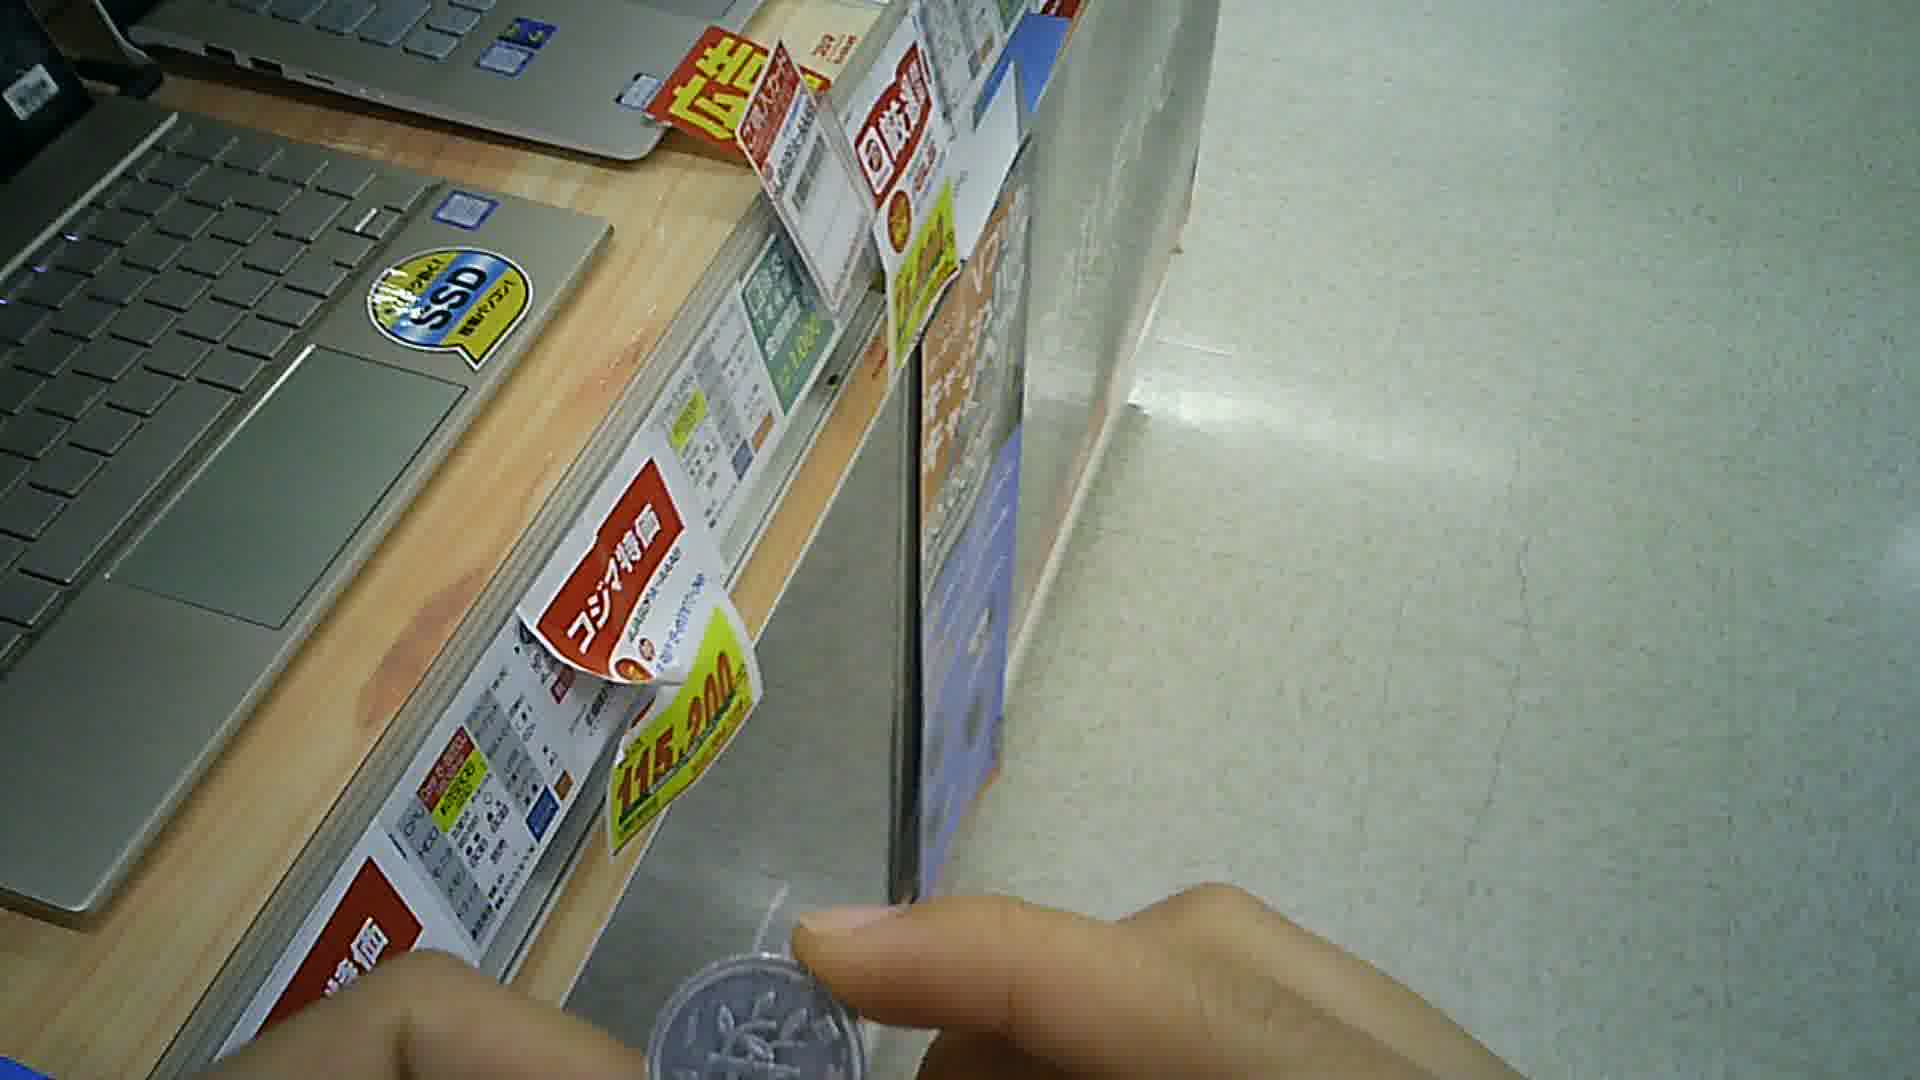1 Yen: (636, 939, 868, 1079)
